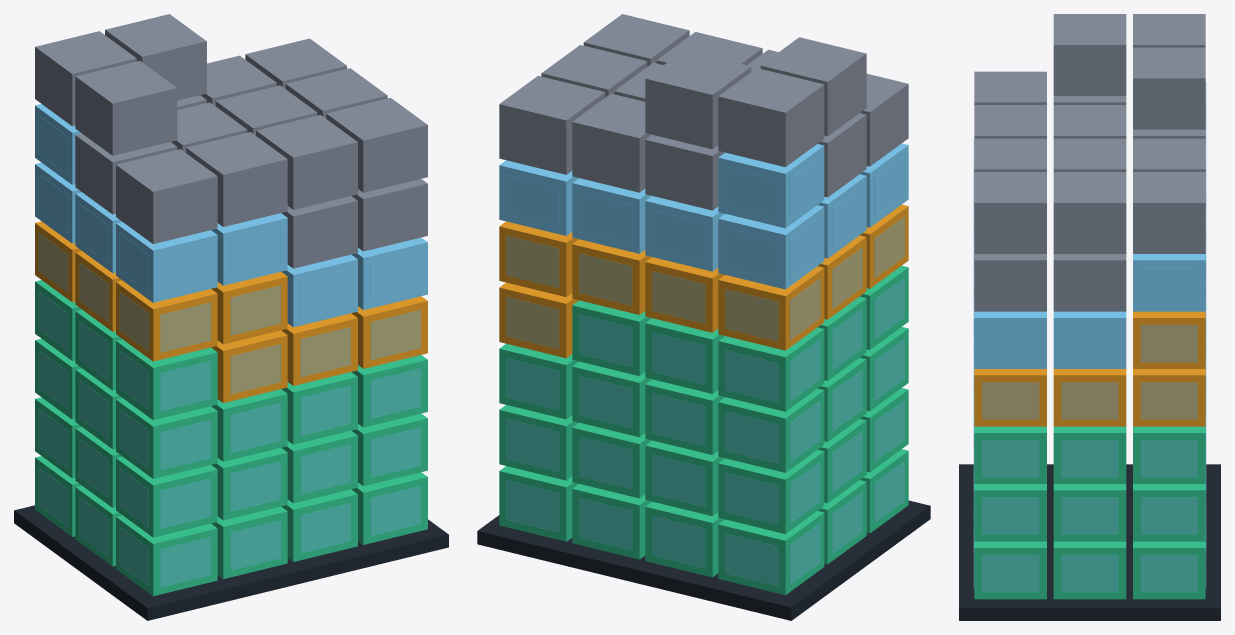
The model's file is building.obj.
The picture shows the model from 3 angles, left to right: view 1: azimuth 30°, elevation 25°; view 2: azimuth 150°, elevation 25°; view 3: azimuth 270°, elevation 25°; orthographic projection. The views are drawn at different scales.
Parts seen in each view (by area): view 1: base, A2-F08-structure, A3-F07-structure, B3-F07-structure, C3-F07-structure, D3-F07-structure, A3-F06-structure, A3-F03-structure, A3-F04-structure, A3-F02-structure, A3-F05-structure, A3-F01-structure (+80 smaller); view 2: base, A1-F08-structure, B1-F08-structure, D1-F07-structure, A1-F04-structure, A1-F06-structure, A1-F02-structure, A1-F03-structure, A1-F07-structure, A1-F01-structure, A1-F05-structure, C1-F07-structure (+82 smaller); view 3: base, A2-F08-structure, D2-F07-structure, B1-F08-structure, D1-F07-structure, D3-F07-structure, D2-F01-structure, D1-F01-structure, D3-F01-structure, D2-F02-structure, D2-F04-structure, D2-F06-structure (+37 smaller).
Boxes of the visible parts, x1,y1,x2,y2 form: base: (14,505,448,620); A2-F08-structure: (75,61,177,155); A3-F07-structure: (116,149,217,244); B3-F07-structure: (186,132,287,226); C3-F07-structure: (256,115,357,209); D3-F07-structure: (326,97,427,192); A3-F06-structure: (116,222,217,302); A3-F03-structure: (116,398,217,478); A3-F04-structure: (116,339,217,420); A3-F02-structure: (116,456,217,537); A3-F05-structure: (116,280,217,361); A3-F01-structure: (116,515,217,596); base: (477,500,930,620); A1-F08-structure: (718,68,824,166); B1-F08-structure: (645,50,751,149); D1-F07-structure: (499,76,605,174); A1-F04-structure: (718,327,824,411); A1-F06-structure: (718,205,824,289); A1-F02-structure: (718,449,824,533); A1-F03-structure: (718,388,824,472); A1-F07-structure: (718,144,824,228); A1-F01-structure: (718,511,824,595); A1-F05-structure: (718,266,824,350); C1-F07-structure: (572,93,651,192); base: (959,464,1220,620); A2-F08-structure: (1053,14,1126,95); D2-F07-structure: (1053,172,1126,253); B1-F08-structure: (1133,47,1205,129); D1-F07-structure: (1133,172,1205,253); D3-F07-structure: (974,172,1046,253); D2-F01-structure: (1053,541,1126,599); D1-F01-structure: (1133,541,1205,599); D3-F01-structure: (974,541,1046,599); D2-F02-structure: (1053,484,1126,541); D2-F04-structure: (1053,369,1126,426); D2-F06-structure: (1053,254,1126,311).
Bounding box in the file's own units: 17.2 × 26.11 × 13.2.
